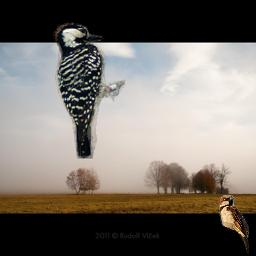Swallow: (219, 195, 249, 254)
Woodpecker: (53, 20, 126, 160)
